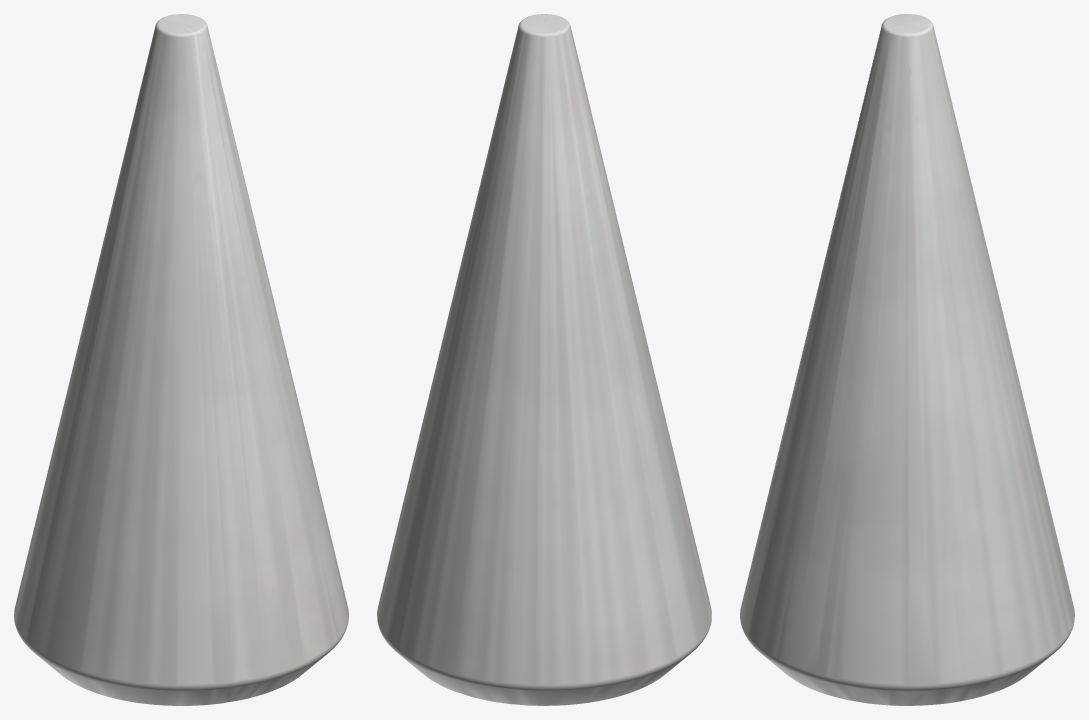
Rendered from 01_pesec_bila.glb.
3 views of the same model, side by side, from view 1: azimuth 30°, elevation 25°; view 2: azimuth 150°, elevation 25°; view 3: azimuth 270°, elevation 25° (orthographic).
Parts seen in each view (by area): view 1: 01_pesec_bila; view 2: 01_pesec_bila; view 3: 01_pesec_bila.
Boxes of the visible parts, x1=… form: 01_pesec_bila: x1=14, y1=14, x2=348, y2=705; 01_pesec_bila: x1=377, y1=14, x2=711, y2=705; 01_pesec_bila: x1=740, y1=14, x2=1074, y2=705.
Size of the model in its own units: 0.0342 by 0.0705 by 0.0342.
Materials: 1 (1 with a texture image).
